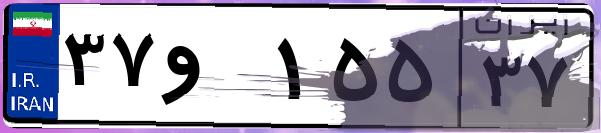1: (270, 28, 330, 110)
3: (57, 26, 110, 100), (475, 38, 525, 113)
5: (385, 28, 445, 110), (330, 28, 385, 110)
7: (525, 38, 570, 115), (110, 28, 158, 98)
و: (158, 20, 270, 120)
